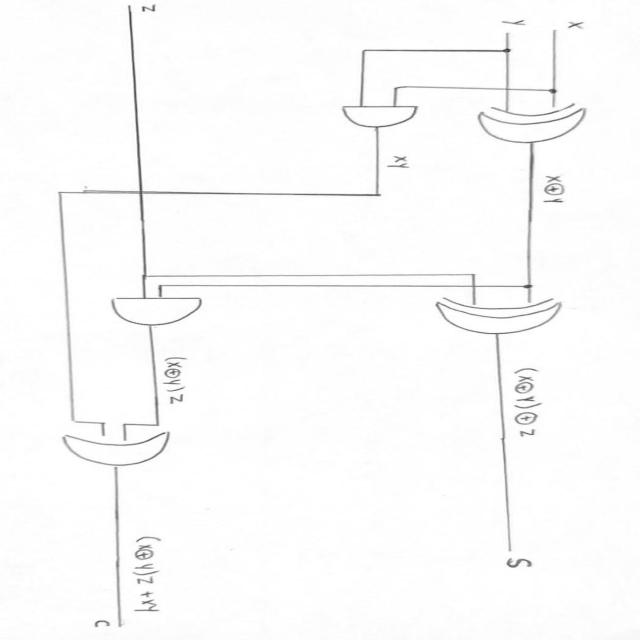AND: (108, 290, 215, 328), (333, 100, 430, 134)
OR: (46, 428, 186, 468)
XOR: (418, 290, 592, 334), (465, 97, 597, 149)
